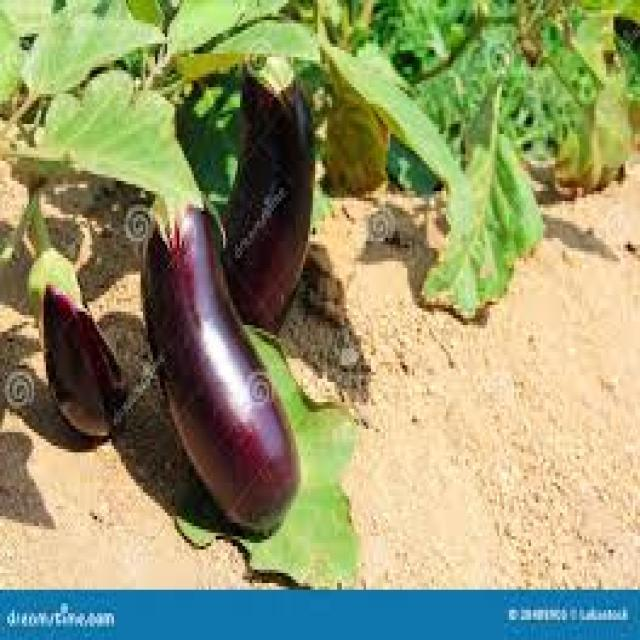Eggplant: (142, 142, 302, 542), (218, 32, 318, 332), (27, 209, 129, 439)
